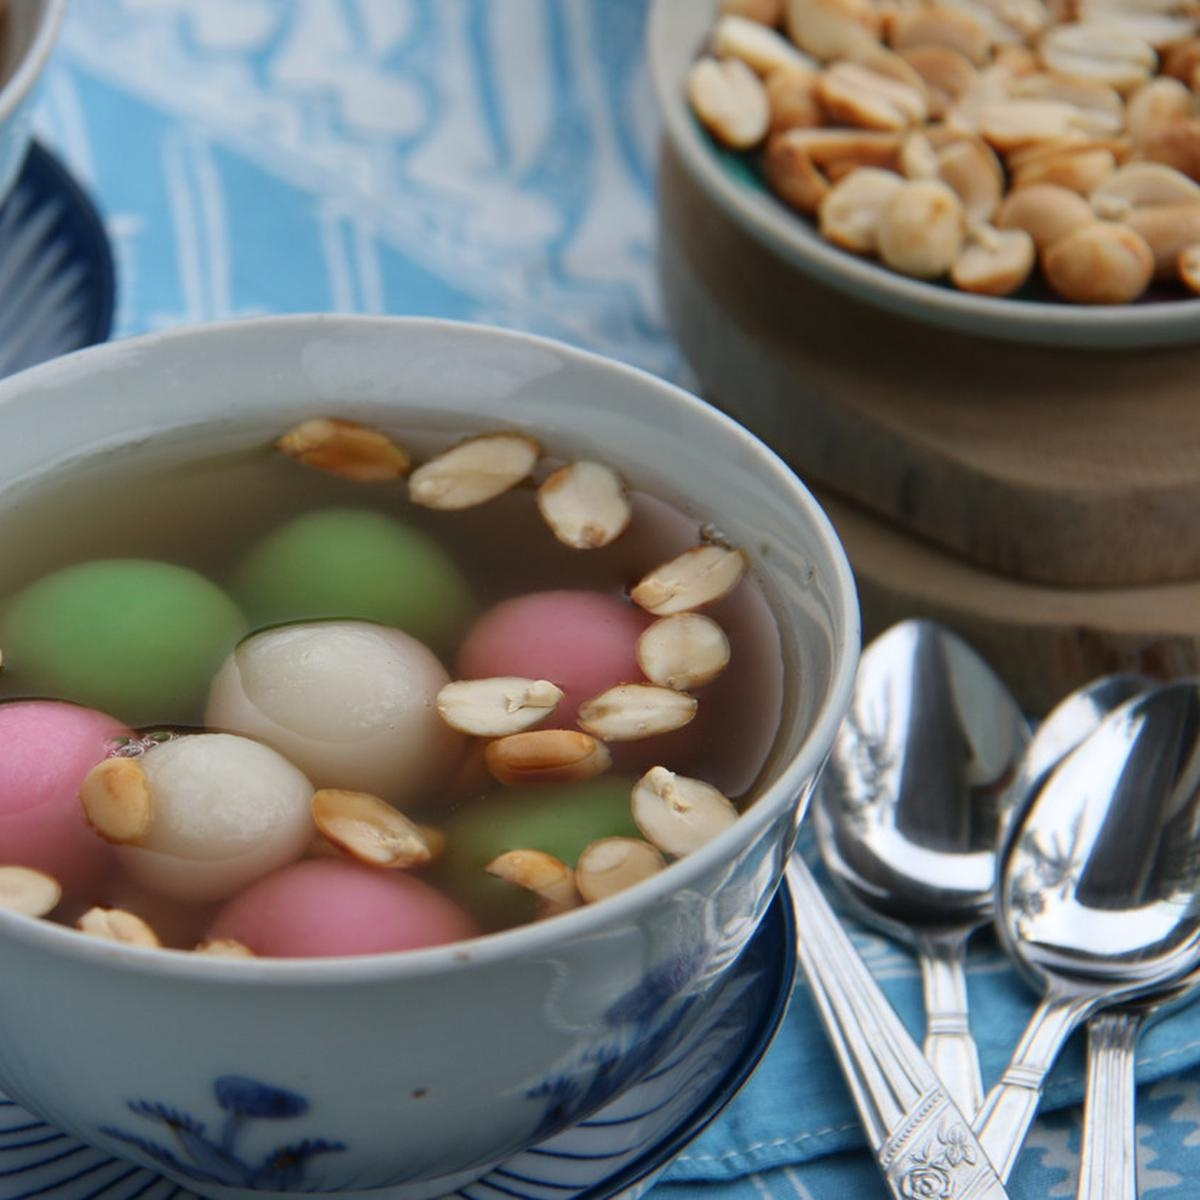ronde: (3, 416, 798, 953)
